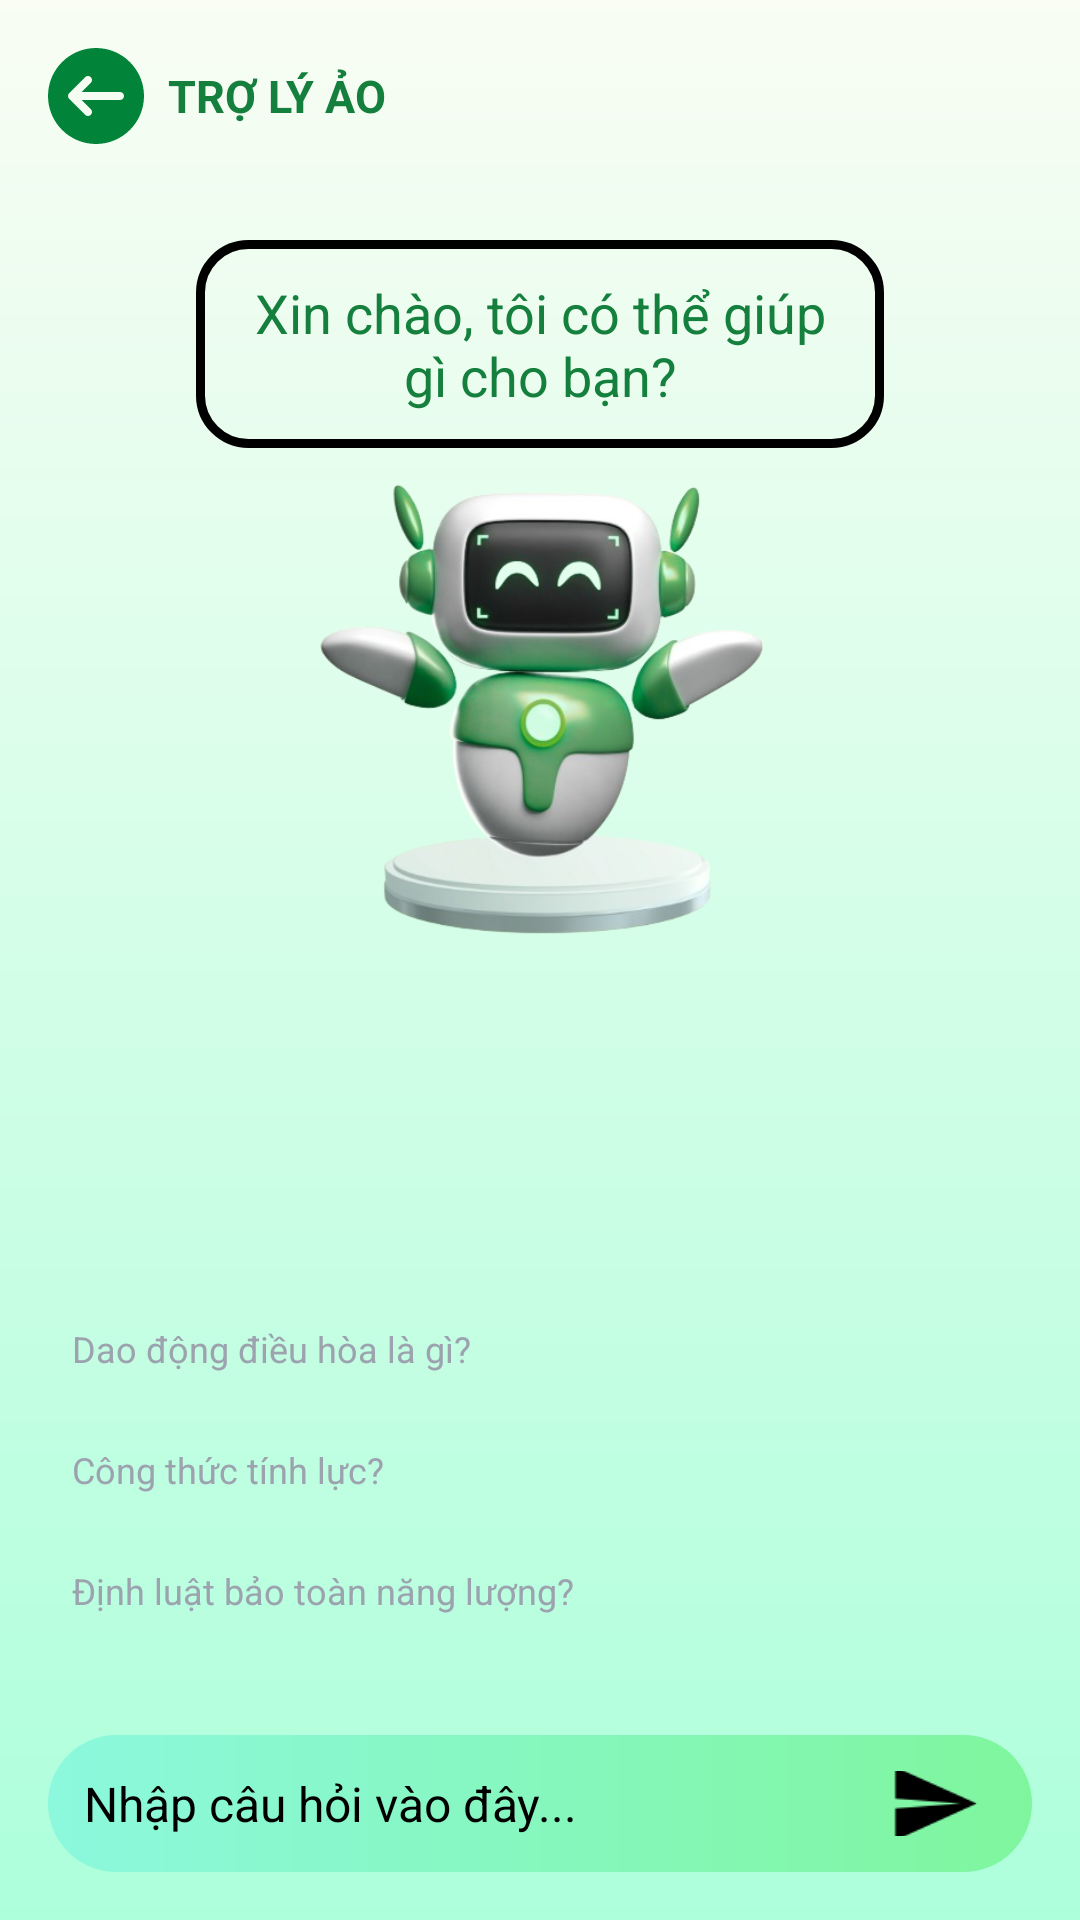

Point at icon controls on the screen. Image size 1080x1920, points as point (x, y).
back: point (96, 96)
